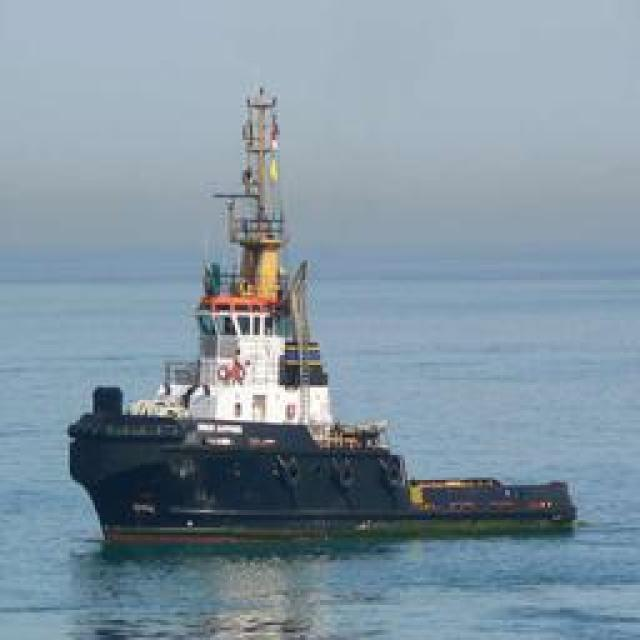CIV_Ship: (69, 76, 509, 534)
